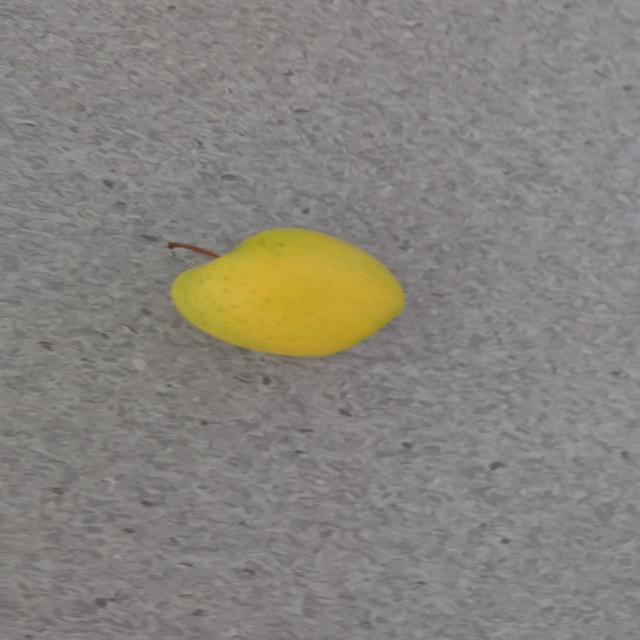apple: (166, 227, 405, 358)
